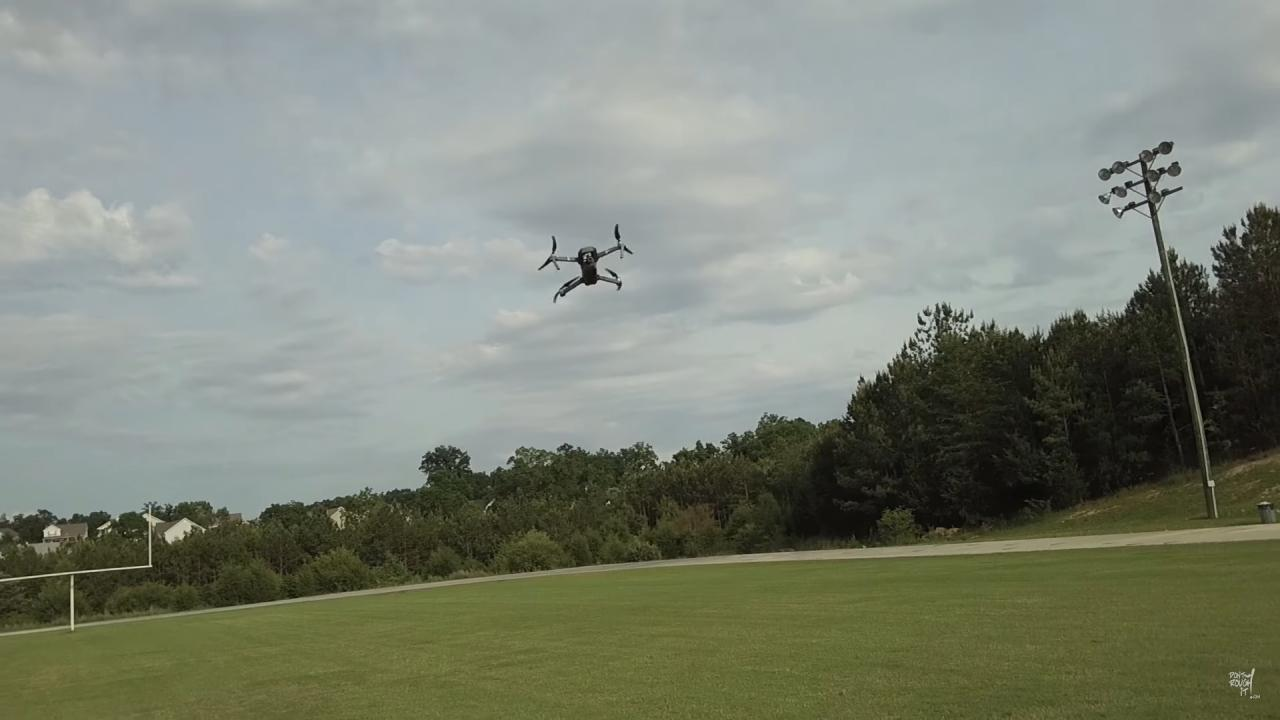Drone: (532, 220, 645, 312)
